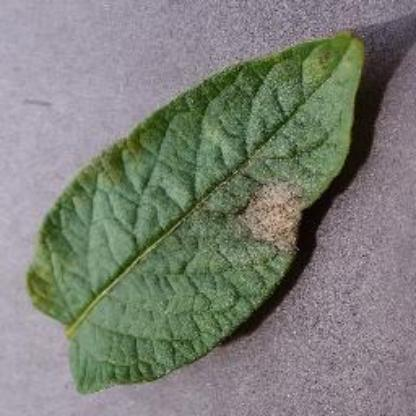Late-Blight: (36, 31, 384, 394)
